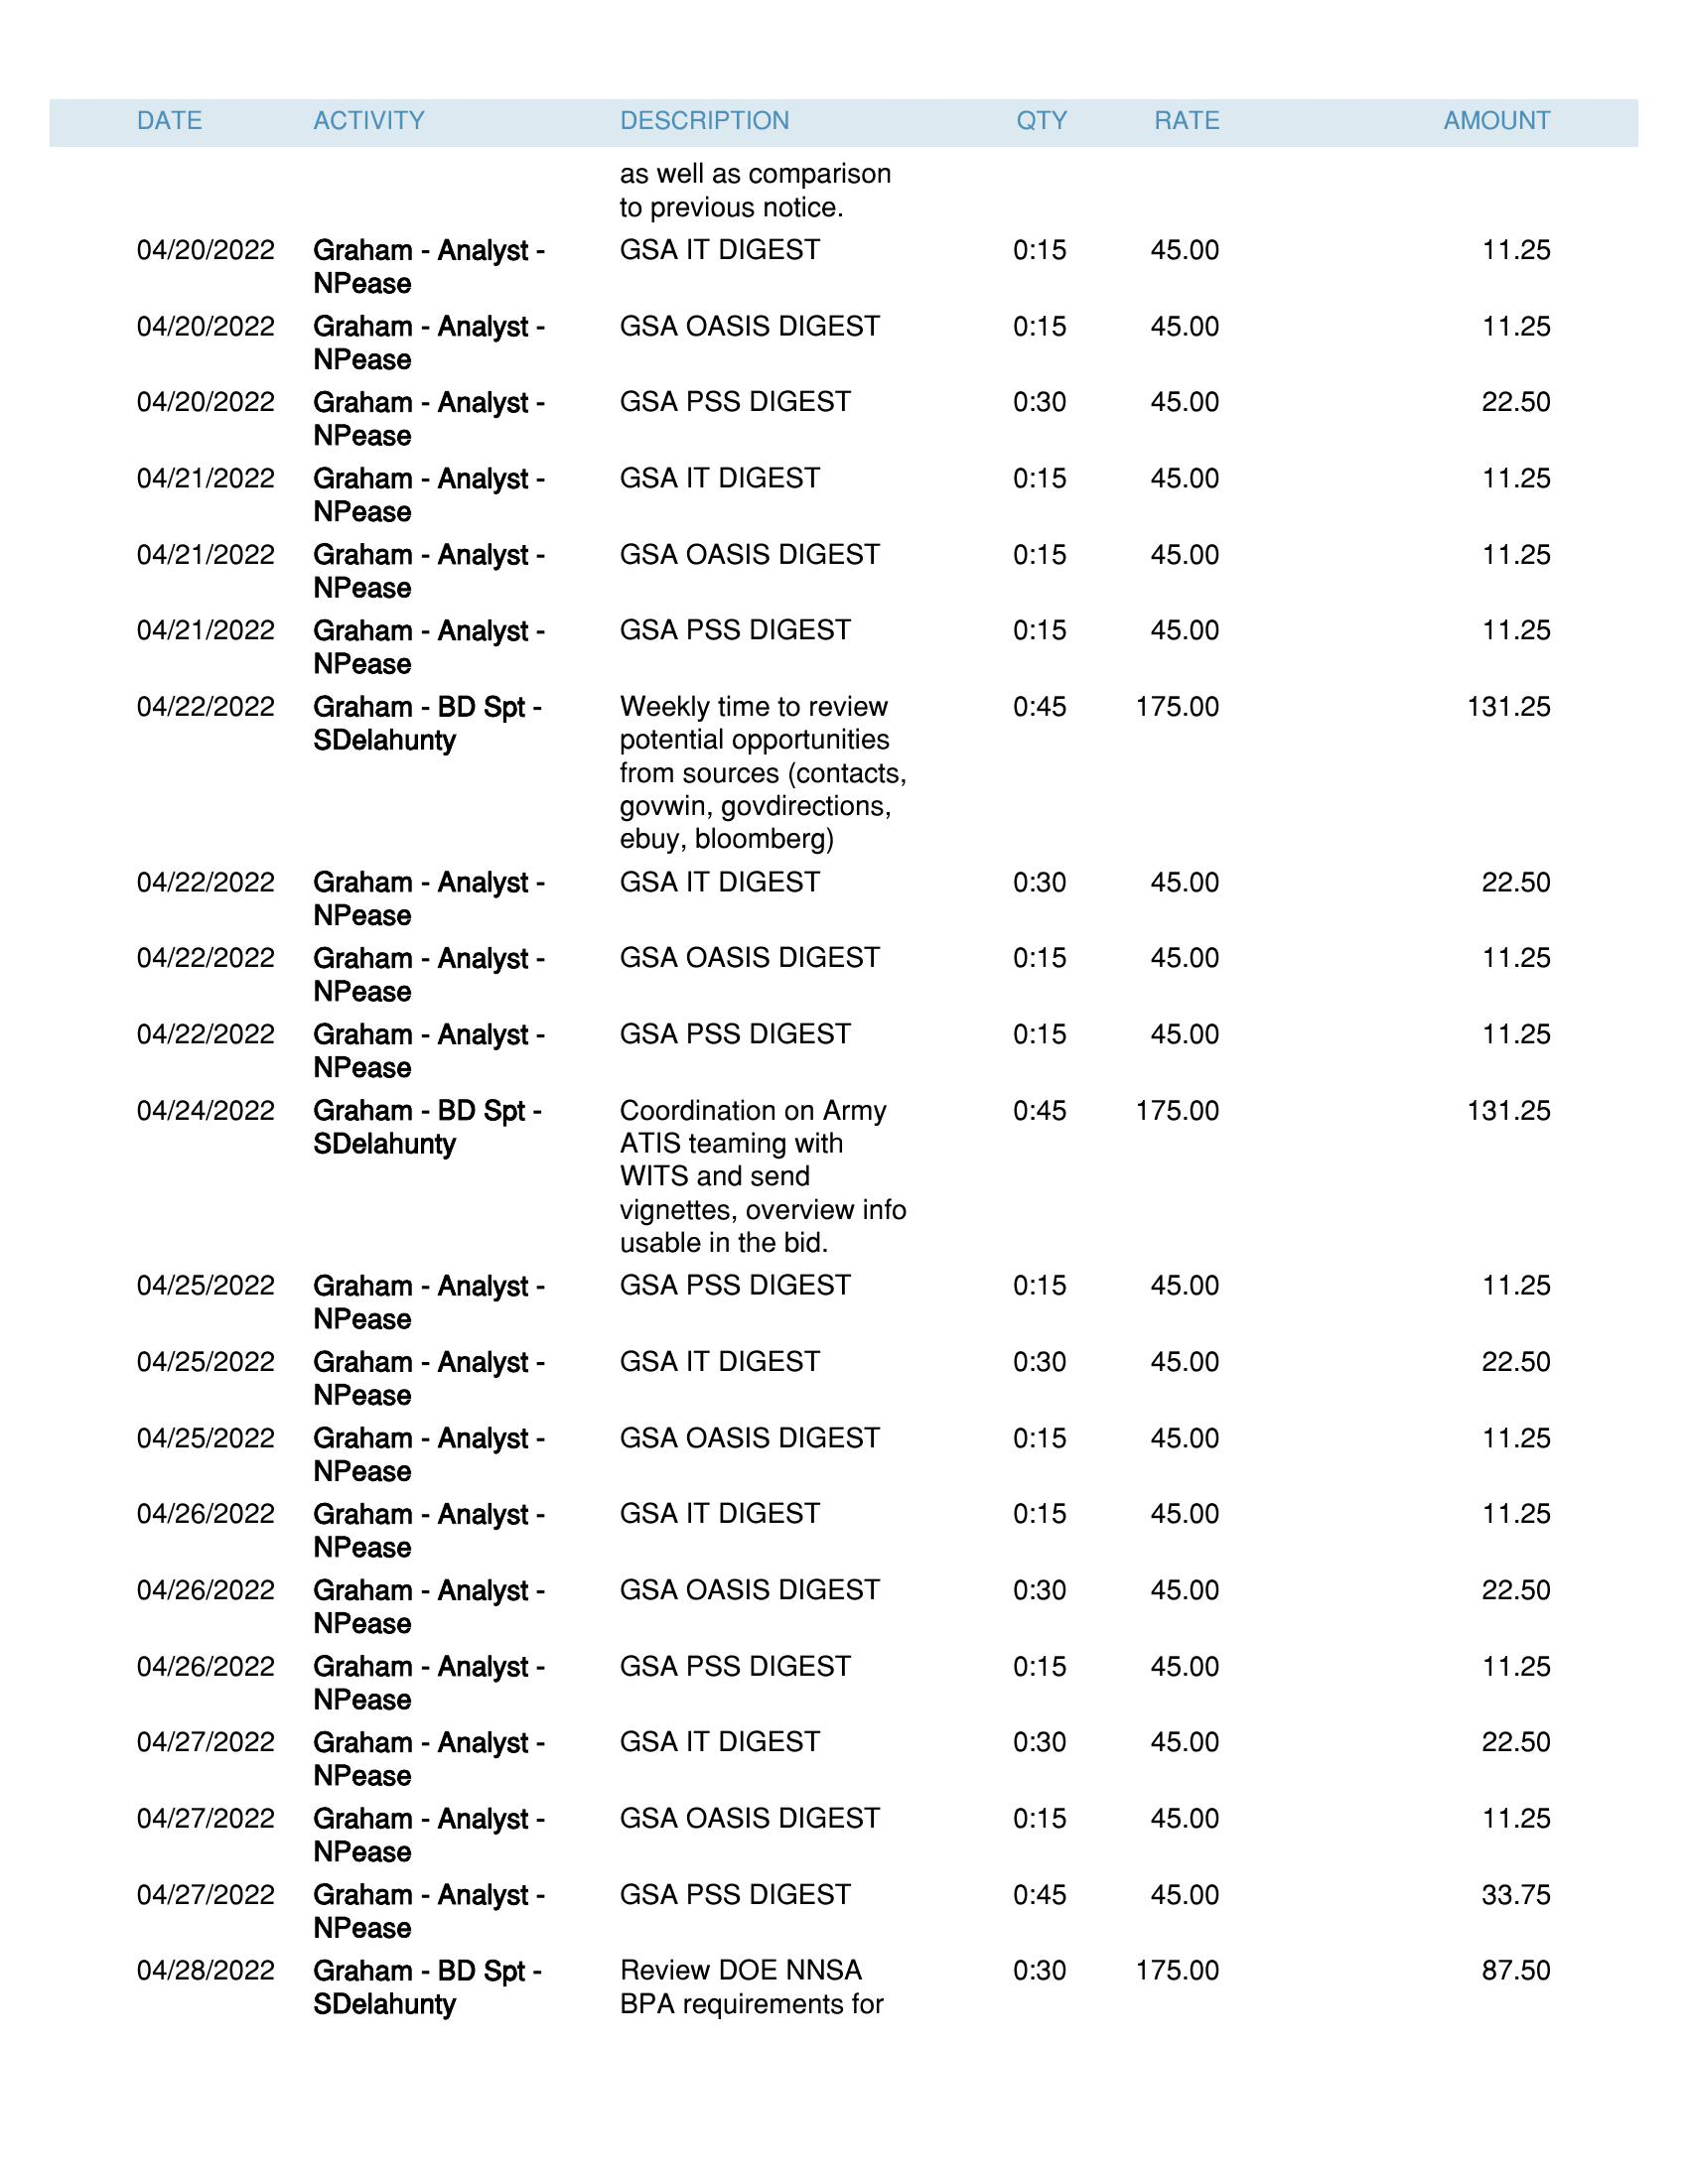table: (48, 67, 1644, 2056)
